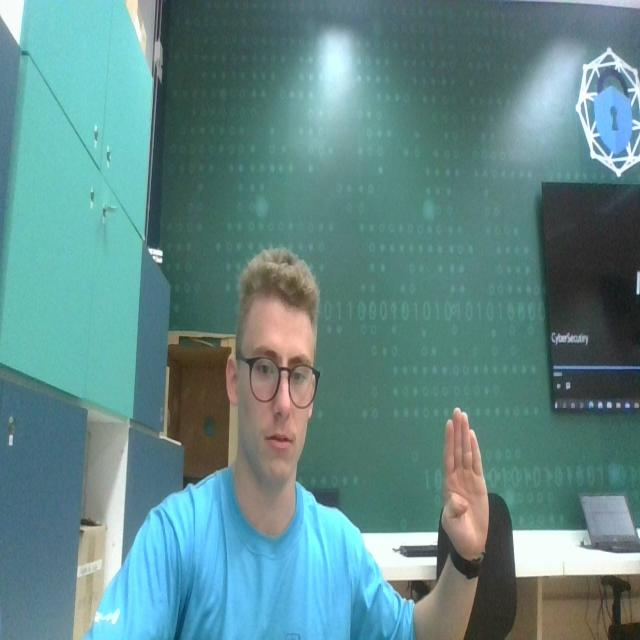B: (432, 407, 493, 569)
